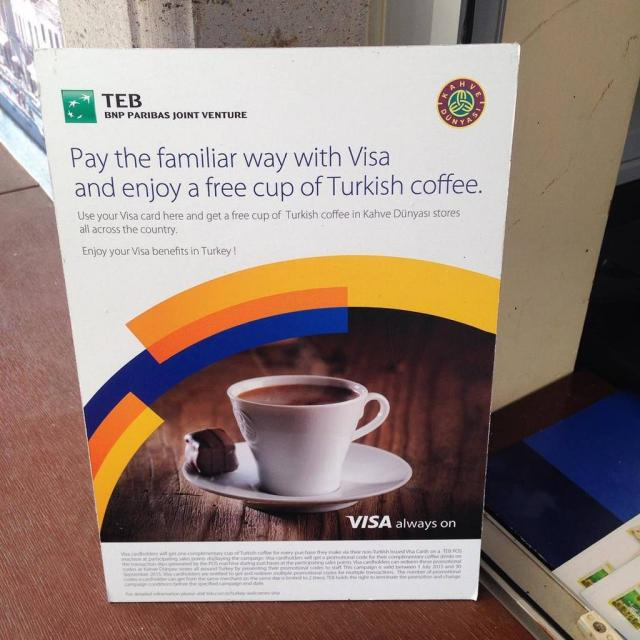Coffee: (238, 379, 358, 409)
Tea: (238, 382, 358, 407)
